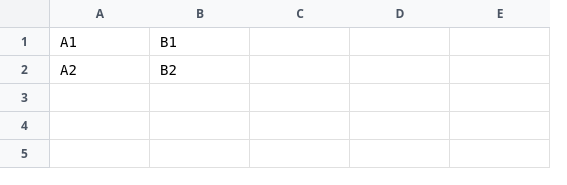
Test case: Grid - Cell Editing Input › commits edit on Enter key
Later steps or results of the test are not shown.
Note: Double-click to start editing
Double-click the element with class "grid-cell" showing "A1" at (100, 42), box [50,28,150,56]
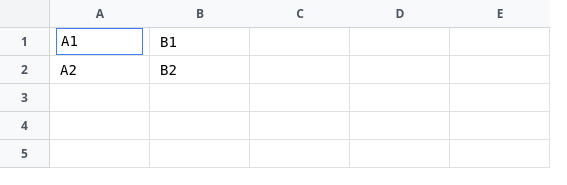
Check: the field is shown, box [56,28,143,54]
